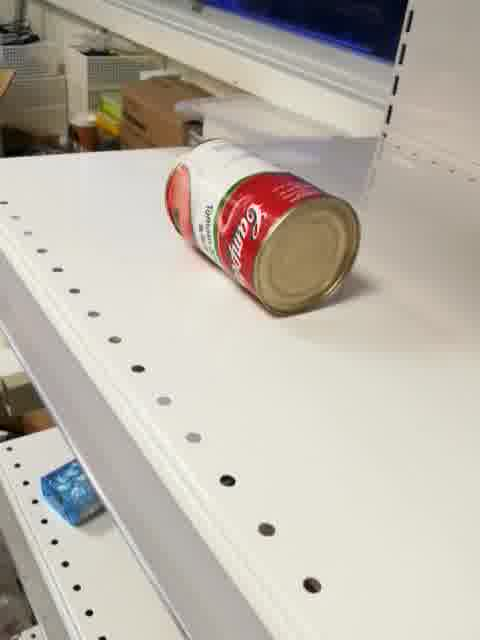tomatosoup: (163, 136, 361, 318)
